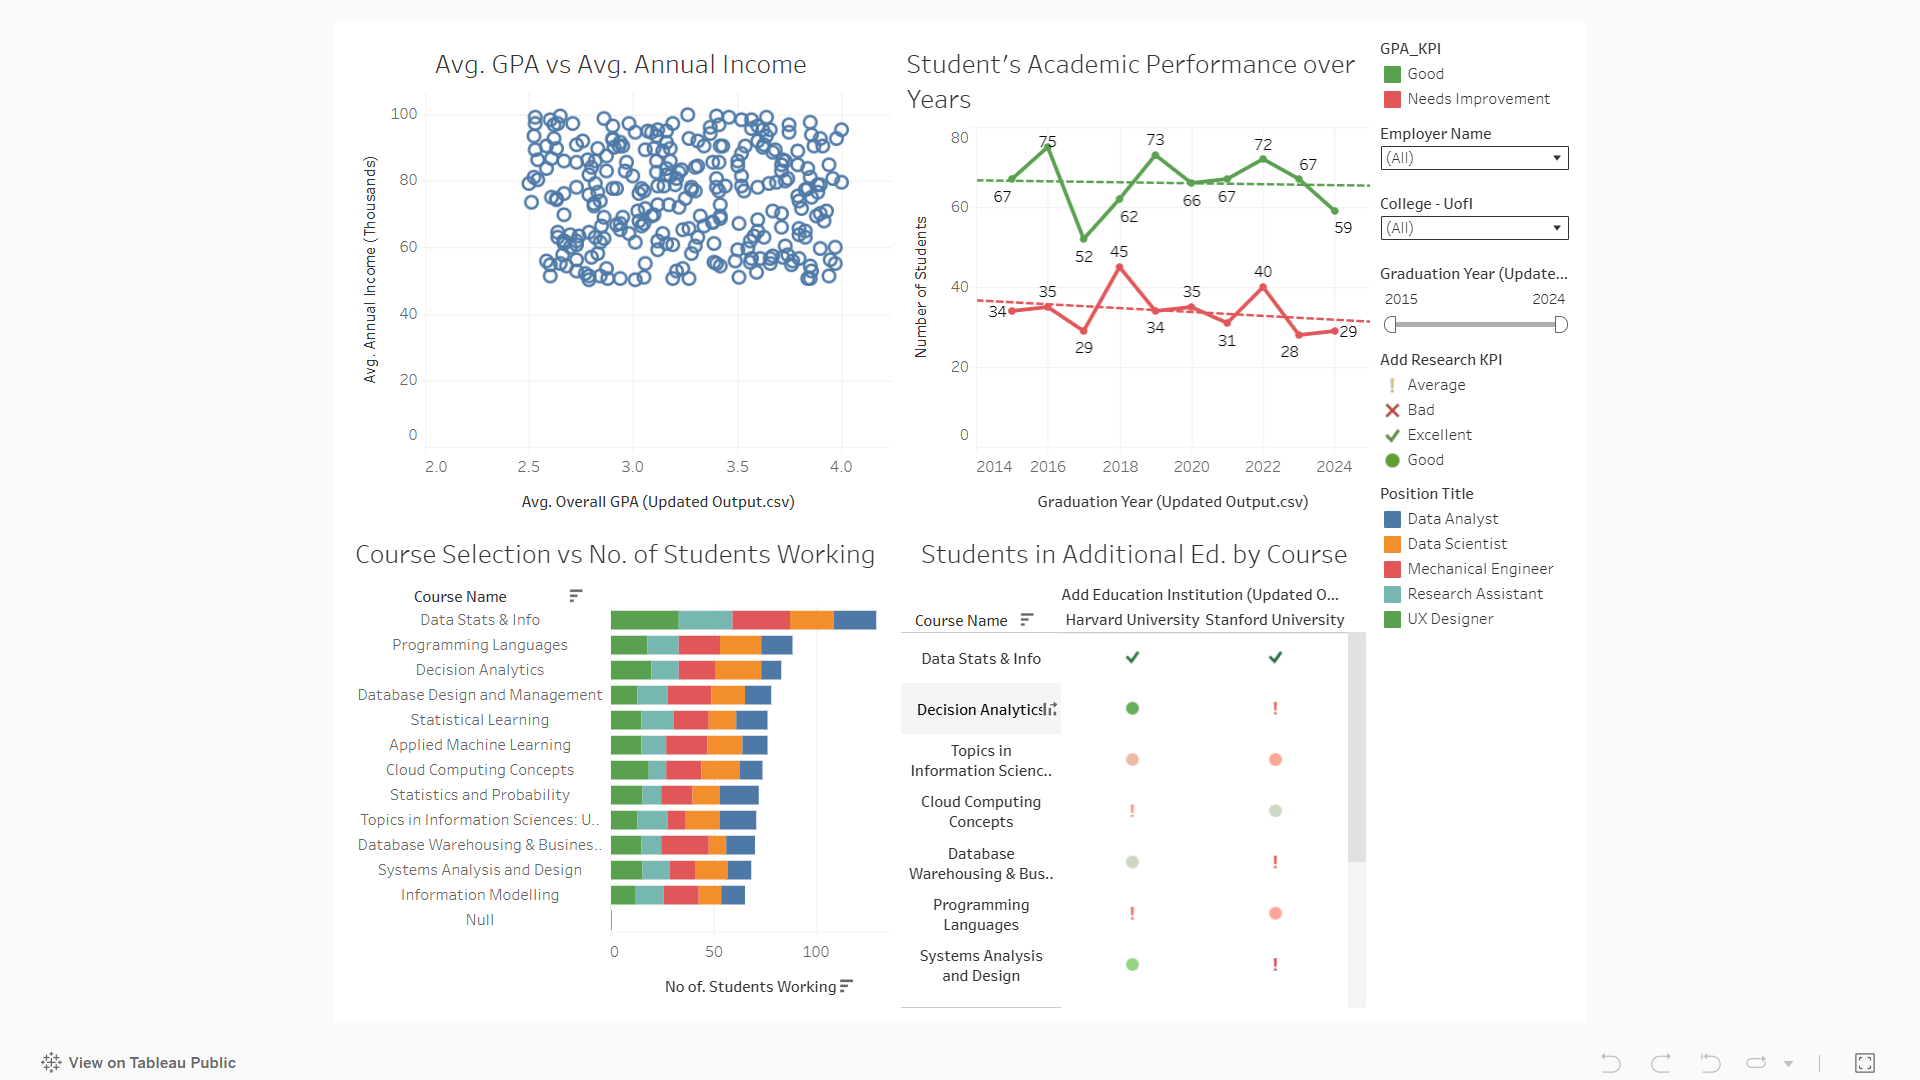

The page's visual inventory and layout, read from the dashboard file:
{"tool":"tableau","page":{"name":"Academic & Hiring Correlation","canvas":[1000,800],"ordinal":0},"visuals":[{"type":"worksheet","title":"Avg. GPA vs Avg. Annual Income","mark":"Automatic","rows":["Calculation_2831990132996759553"],"cols":["Overall GPA (Updated_Output.csv)"],"box":[8,8,441,392]},{"type":"worksheet","title":"Student's Academic Performance over Years","mark":"Automatic","rows":["UIN (Updated_Output.csv)"],"cols":["Graduation Year (Updated_Output.csv)"],"box":[449,8,383,392]},{"type":"legend","title":"Student's Academic Performance over Years","param":"[federated.1hmfvr802u9zmr16zatlf0mn0tlc].[none:Calculation_2831990133729607687:n","box":[832,8,160,66]},{"type":"filter","title":"Avg. GPA vs Avg. Annual Income","param":"[federated.1hmfvr802u9zmr16zatlf0mn0tlc].[none:Employer Name (Updated_Output.csv","box":[832,74,160,52]},{"type":"filter","title":"Avg. GPA vs Avg. Annual Income","param":"[federated.1hmfvr802u9zmr16zatlf0mn0tlc].[none:College (Updated_Output.csv):nk]","box":[832,126,160,52]},{"type":"filter","title":"Avg. GPA vs Avg. Annual Income","param":"[federated.1hmfvr802u9zmr16zatlf0mn0tlc].[none:Graduation Year (Updated_Output.c","box":[832,178,160,69]},{"type":"legend","title":"Students in Additional Ed. by Course","param":"[federated.1hmfvr802u9zmr16zatlf0mn0tlc].[usr:Calculation_2831990134780997642:nk","box":[832,247,160,106]},{"type":"legend","title":"Course Selection vs No. of Students Working","param":"[federated.1hmfvr802u9zmr16zatlf0mn0tlc].[none:Position Title (Updated_Output.cs","box":[832,353,160,126]},{"type":"worksheet","title":"Course Selection vs No. of Students Working","mark":"Automatic","rows":["Course Name"],"cols":["UIN (Final_Randomized_UIUC_Course_Data_New.csv)"],"box":[8,400,441,392]},{"type":"worksheet","title":"Students in Additional Ed. by Course","mark":"Shape","rows":["Course Name"],"cols":["Add Education Institution (Updated_Output.csv)"],"box":[449,400,383,392]}]}

Visuals, with their boxes on the page's 1000x800 design canvas (x1, y1, x2, y2). These are canvas units, not pixel positions in the 1920x1080 screenshot, which may show the page scaled, cropped or inside an application window:
"Avg. GPA vs Avg. Annual Income" worksheet: box=[8, 8, 449, 400]
"Student's Academic Performance over Years" worksheet: box=[449, 8, 832, 400]
"Student's Academic Performance over Years" legend: box=[832, 8, 992, 74]
"Avg. GPA vs Avg. Annual Income" filter: box=[832, 74, 992, 126]
"Avg. GPA vs Avg. Annual Income" filter: box=[832, 126, 992, 178]
"Avg. GPA vs Avg. Annual Income" filter: box=[832, 178, 992, 247]
"Students in Additional Ed. by Course" legend: box=[832, 247, 992, 353]
"Course Selection vs No. of Students Working" legend: box=[832, 353, 992, 479]
"Course Selection vs No. of Students Working" worksheet: box=[8, 400, 449, 792]
"Students in Additional Ed. by Course" worksheet (Shape marks): box=[449, 400, 832, 792]
